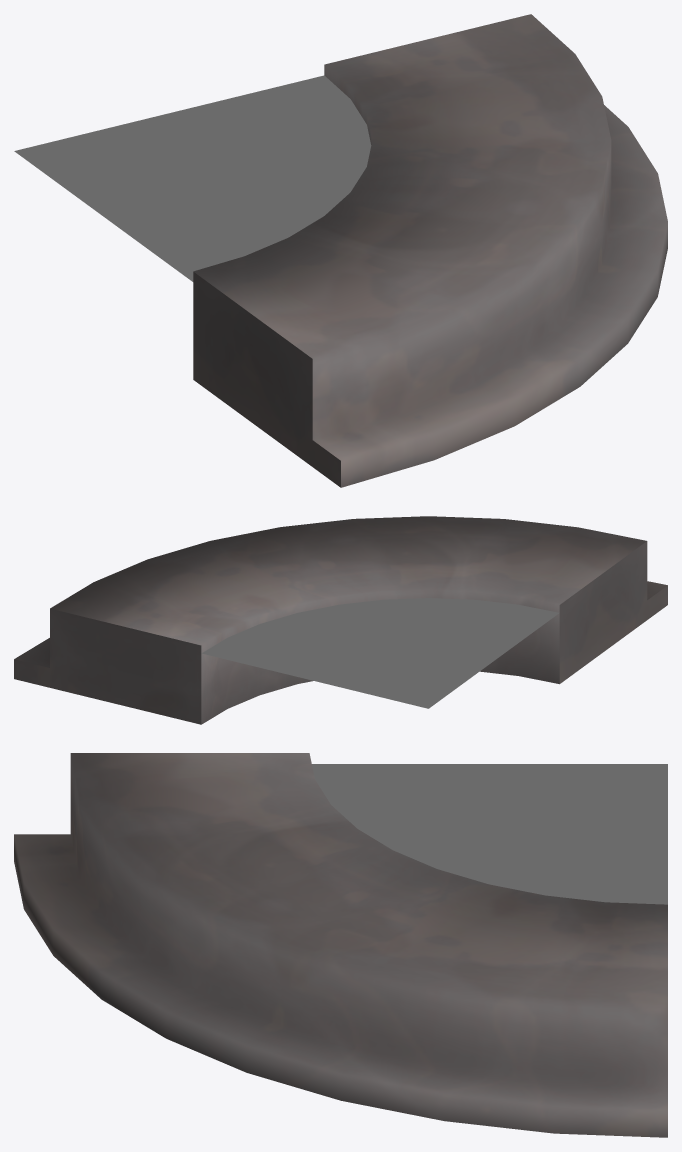
Rendered from Curb_Convex_Radius_1m.fbx.
3 renders of one model, top to bottom at view 1: azimuth 30°, elevation 25°; view 2: azimuth 150°, elevation 25°; view 3: azimuth 270°, elevation 25°, orthographic. The views are drawn at different scales.
Visible parts, largest first — view 1: Curb_Convex_Radius_1m; view 2: Curb_Convex_Radius_1m; view 3: Curb_Convex_Radius_1m.
Boxes of the visible parts, box(x1,y1,x2,y2) form: Curb_Convex_Radius_1m: box(14, 14, 667, 487); Curb_Convex_Radius_1m: box(14, 516, 667, 724); Curb_Convex_Radius_1m: box(14, 753, 667, 1137).
Size of what is drawn, in the model's own units: 1.09 by 0.2 by 1.09.
